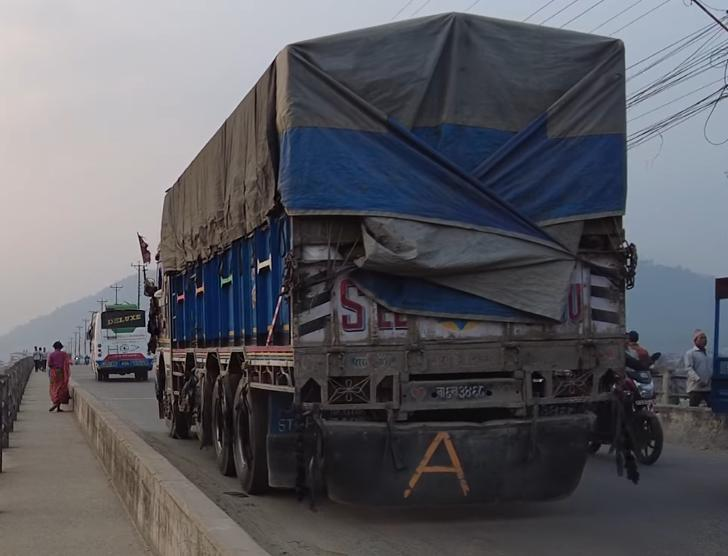bike: (594, 354, 667, 472)
bus: (87, 303, 154, 381)
truck: (146, 10, 641, 512)
